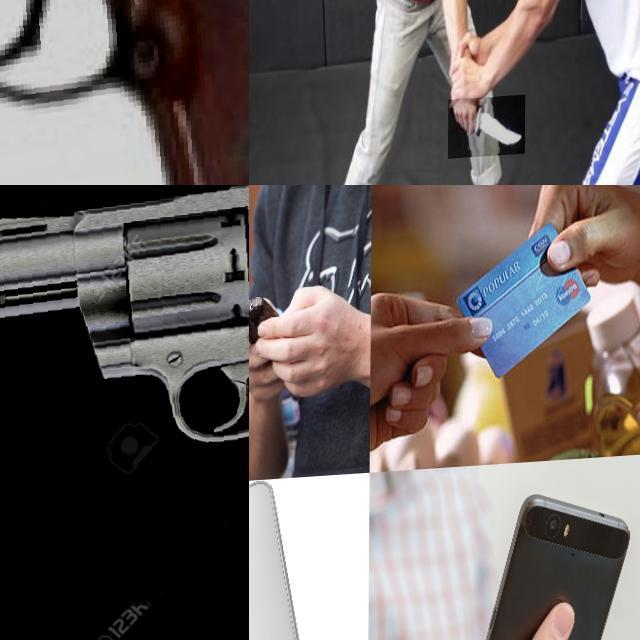-: (448, 100, 526, 162)
gun-knife-thesis - v11 Yolov5 augmented: (0, 185, 249, 620), (0, 0, 249, 185)
